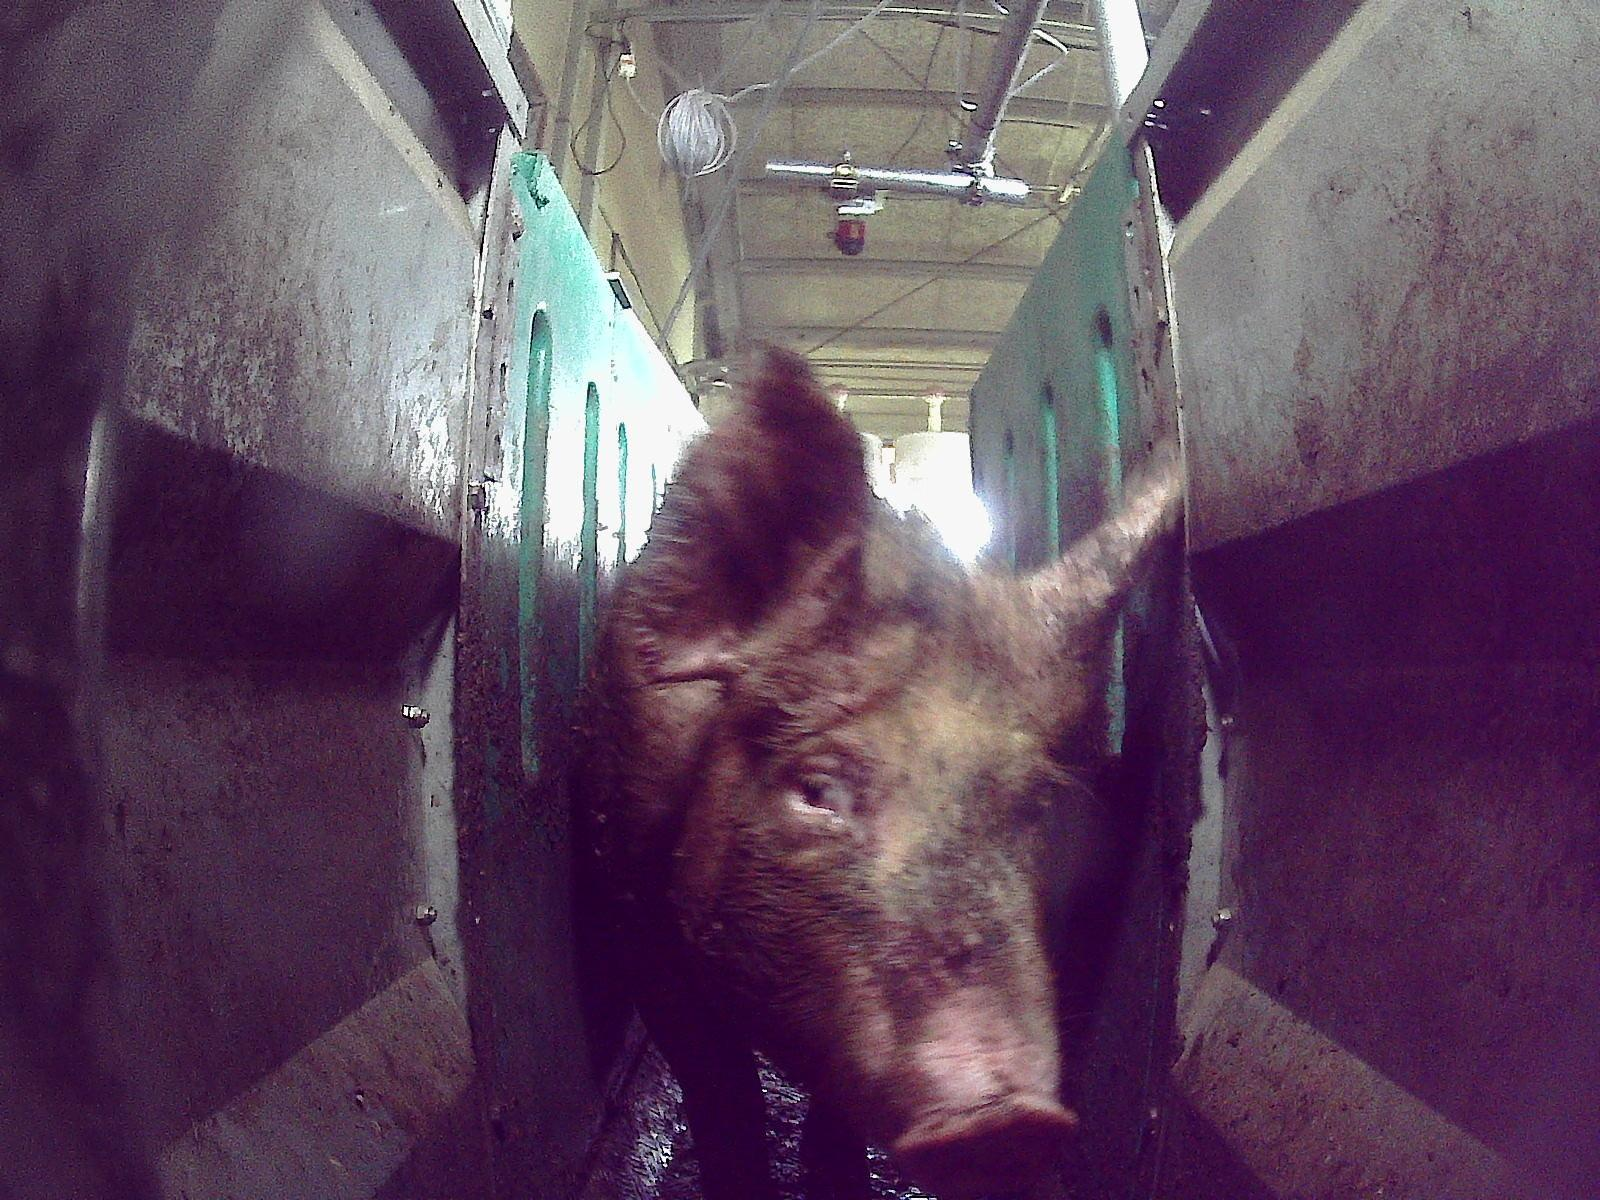Face: (704, 604, 1075, 1195)
